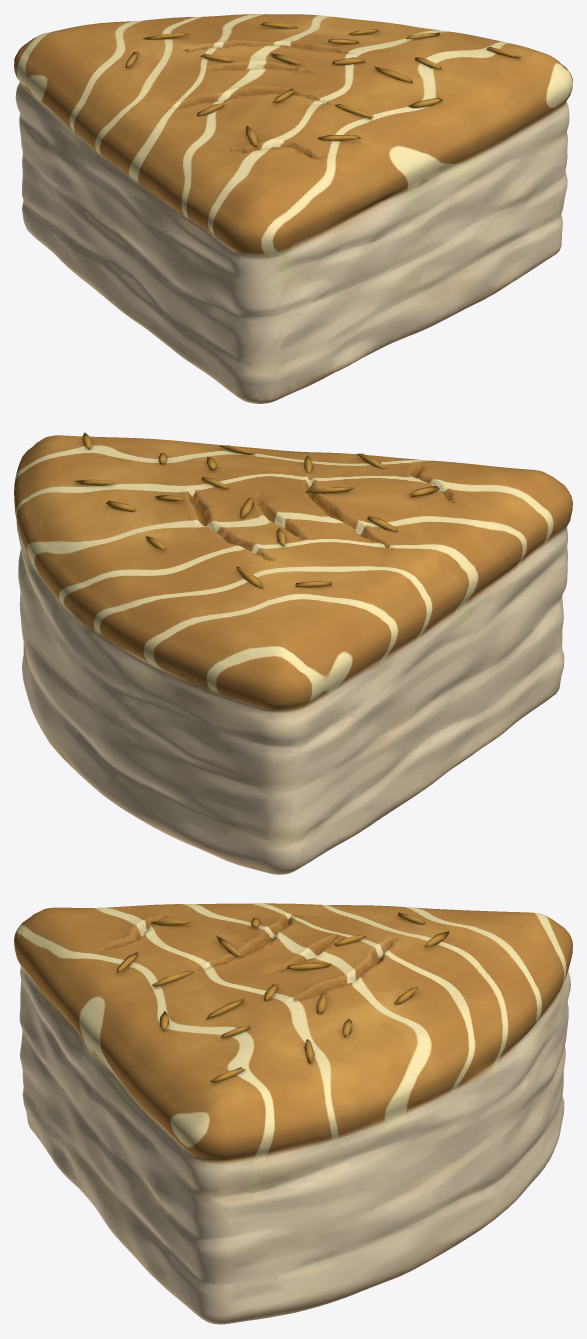
The model's file is scone--yuzu-slice.glb.
The picture shows the model from 3 angles, top to bottom: view 1: azimuth 30°, elevation 25°; view 2: azimuth 150°, elevation 25°; view 3: azimuth 270°, elevation 25°; orthographic projection. The views are drawn at different scales.
Visible parts, largest first — view 1: scone_yuzu-slice; view 2: scone_yuzu-slice; view 3: scone_yuzu-slice.
Part boxes in pixels (box(x1,y1,x2,y2)): scone_yuzu-slice: box(14, 14, 572, 403); scone_yuzu-slice: box(14, 432, 572, 874); scone_yuzu-slice: box(14, 903, 572, 1324).
Bounding box in the file's own units: 0.9366 × 0.4742 × 0.9842.
Materials: 1 (1 with a texture image).
